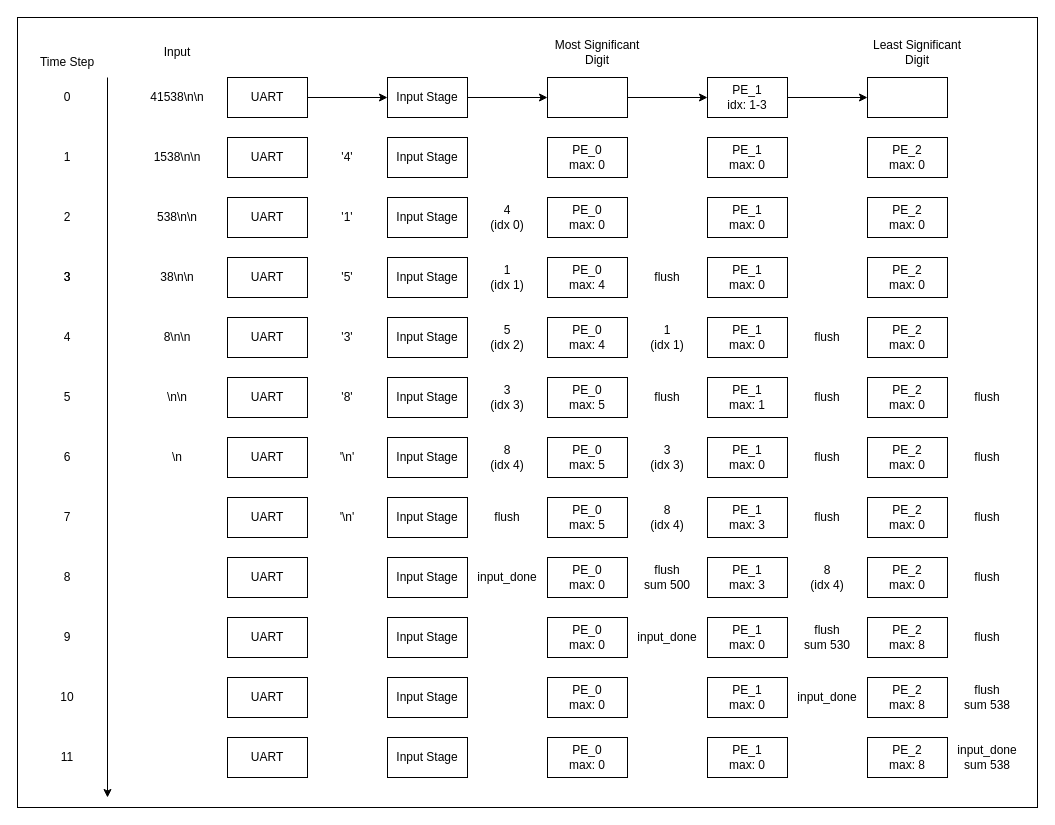
The diagram is 1055 pixels wide and 825 high, and some of its shapes have lost their labels. Here are the shapes that lost their labels. From the top down, the box of each, then its label:
(546, 76, 628, 118): PE_0 idx: 0-2
(866, 76, 948, 118): PE_2 idx: 2-4
